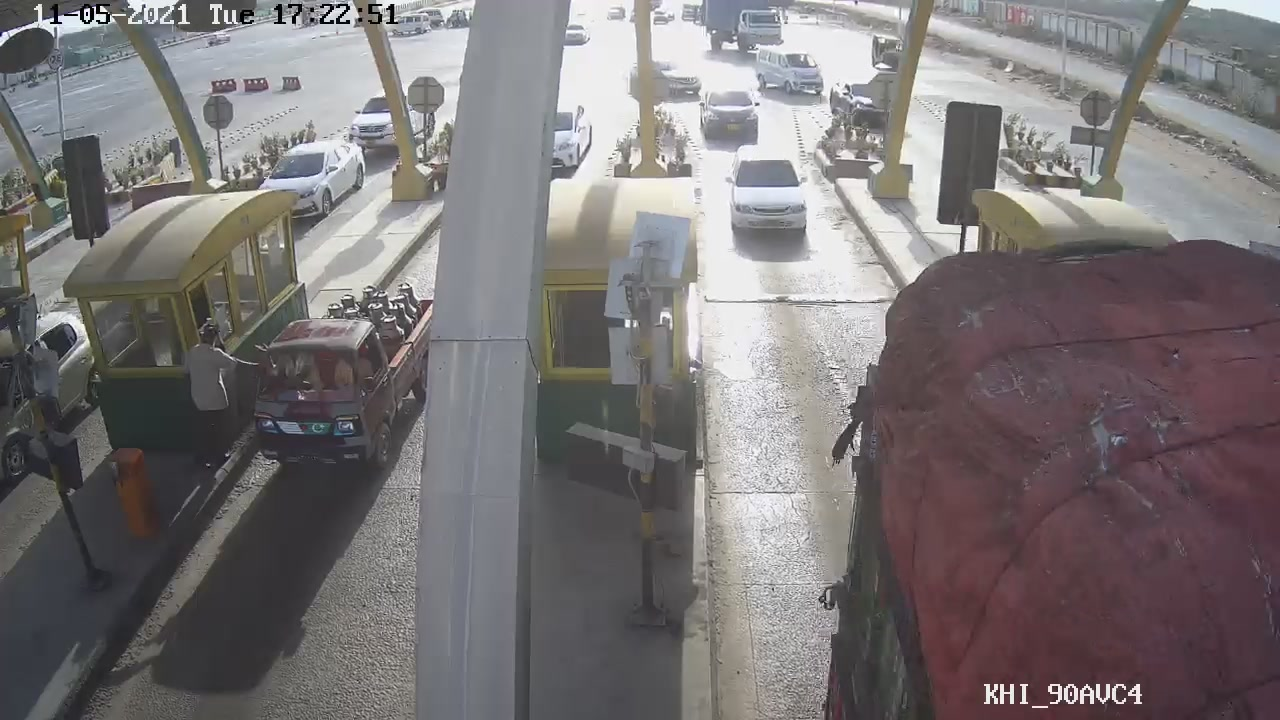F1: (716, 142, 829, 242)
